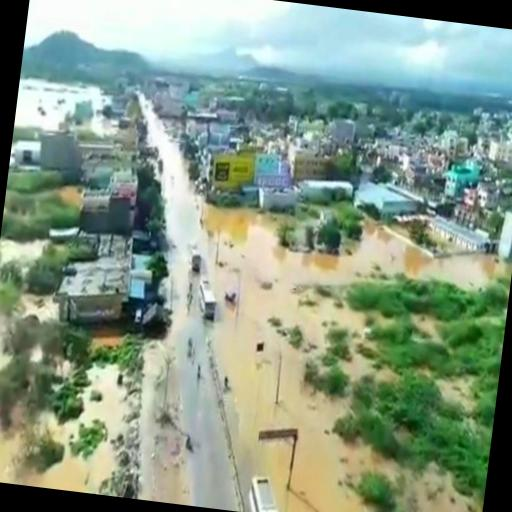flood: (200, 206, 497, 512), (13, 79, 114, 137)
house: (0, 365, 128, 495), (56, 252, 134, 328), (76, 166, 142, 236), (358, 181, 418, 225), (428, 216, 488, 253), (247, 471, 290, 512), (288, 146, 330, 182), (303, 176, 354, 204), (256, 184, 298, 214), (438, 128, 466, 162), (155, 76, 191, 101), (12, 138, 43, 166), (292, 118, 328, 142), (496, 208, 512, 260), (376, 136, 407, 160), (206, 121, 232, 148), (330, 119, 359, 143), (490, 137, 512, 167)
